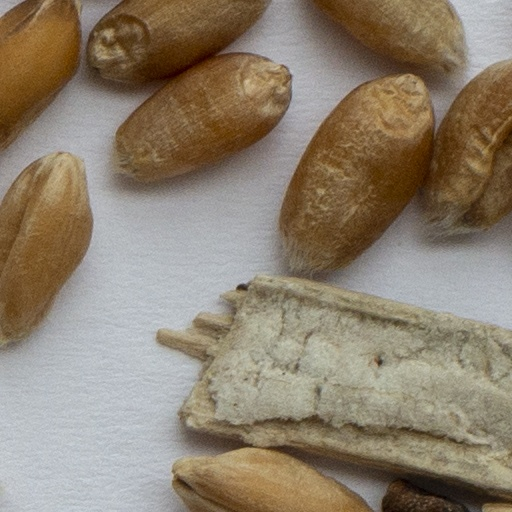Peel-poly: (159, 276, 511, 490)
